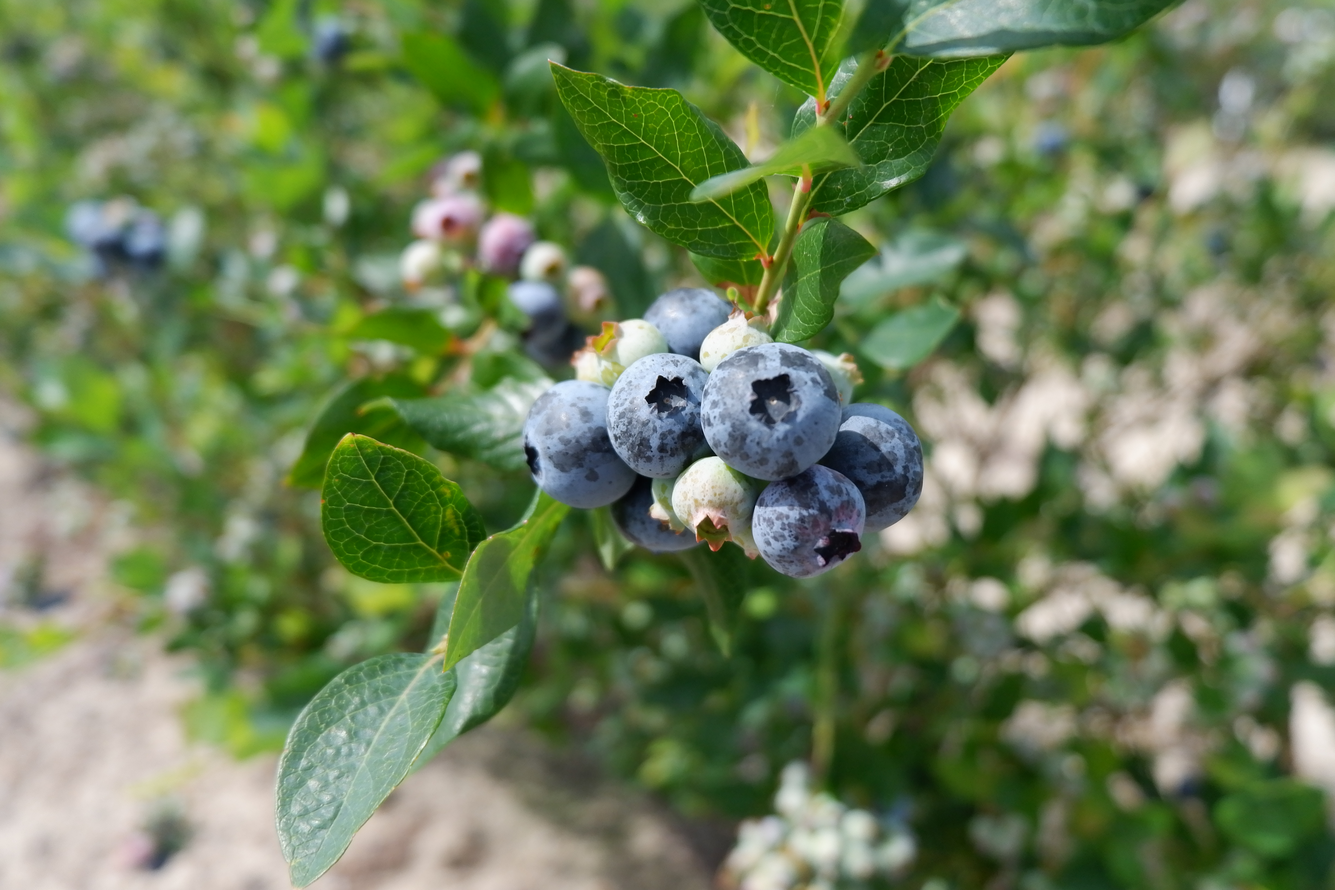Immature: (673, 460, 755, 546), (585, 318, 670, 390), (702, 315, 773, 371), (812, 349, 858, 408), (570, 349, 609, 390), (653, 473, 680, 525)
Mature: (705, 343, 839, 477), (525, 384, 632, 506), (608, 354, 708, 475), (755, 468, 864, 575), (825, 408, 923, 526), (610, 472, 704, 553), (645, 288, 736, 357)
